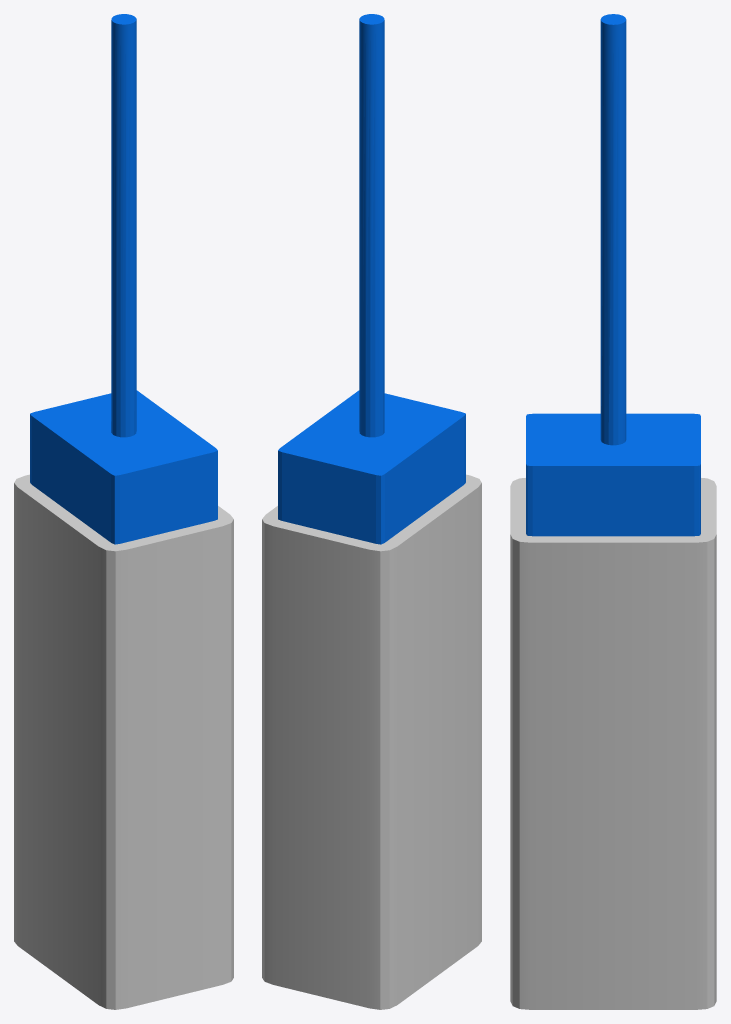
File: liquid_transferor.glb
3 renders of one model, left to right at view 1: azimuth 30°, elevation 25°; view 2: azimuth 150°, elevation 25°; view 3: azimuth 270°, elevation 25°, orthographic.
Parts seen in each view (by area): view 1: liquid transferor; view 2: liquid transferor; view 3: liquid transferor.
Boxes of the visible parts, left/top/right/bottom form: liquid transferor: left=14, top=14, right=233, bottom=1009; liquid transferor: left=262, top=14, right=481, bottom=1009; liquid transferor: left=510, top=14, right=716, bottom=1009.
Size of the model in its own units: 0.03 by 0.205 by 0.04.
